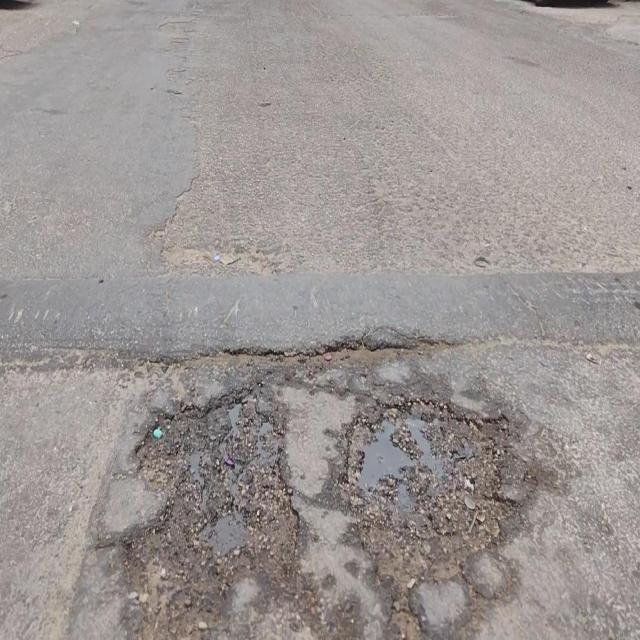Potholes: (123, 378, 298, 640), (343, 406, 508, 590)
